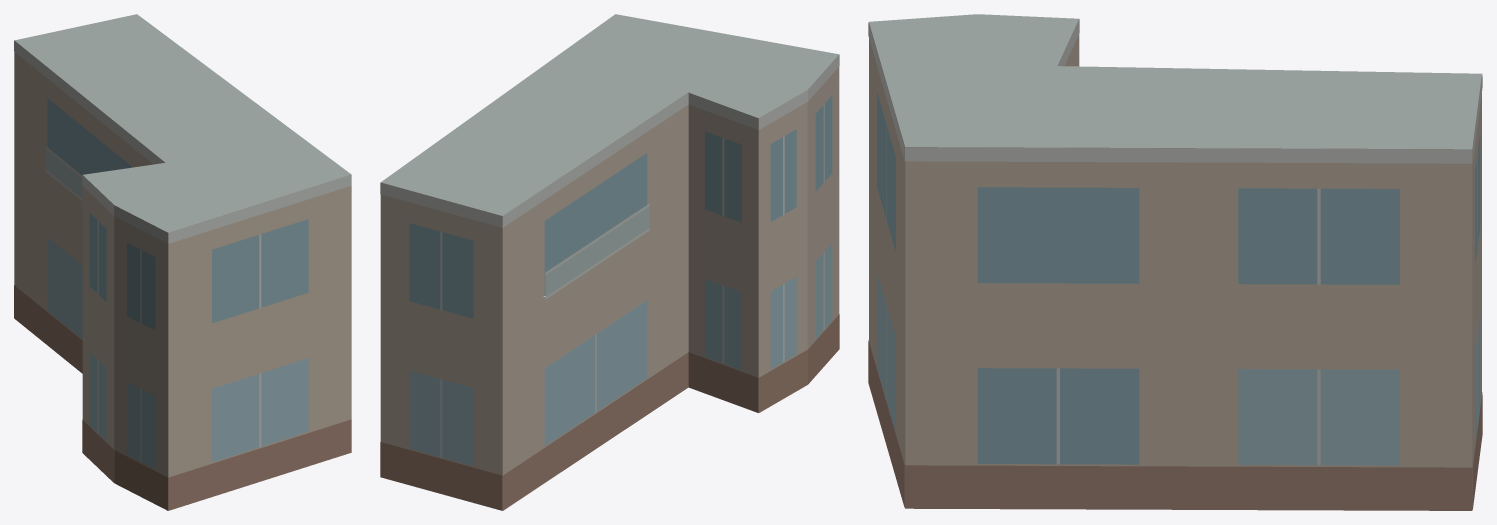
The model's file is survey-upis-32500298.glb.
The picture shows the model from 3 angles, left to right: view 1: azimuth 30°, elevation 25°; view 2: azimuth 150°, elevation 25°; view 3: azimuth 270°, elevation 25°; orthographic projection. The views are drawn at different scales.
Parts seen in each view (by area): view 1: survey-upis-32500298.tmp; view 2: survey-upis-32500298.tmp; view 3: survey-upis-32500298.tmp.
Part boxes in pixels (left/top/right/bottom): survey-upis-32500298.tmp: left=14, top=14, right=351, bottom=510; survey-upis-32500298.tmp: left=380, top=14, right=839, bottom=510; survey-upis-32500298.tmp: left=868, top=14, right=1482, bottom=510.
Bounding box in the file's own units: 4.9 × 6.1 × 9.39.
